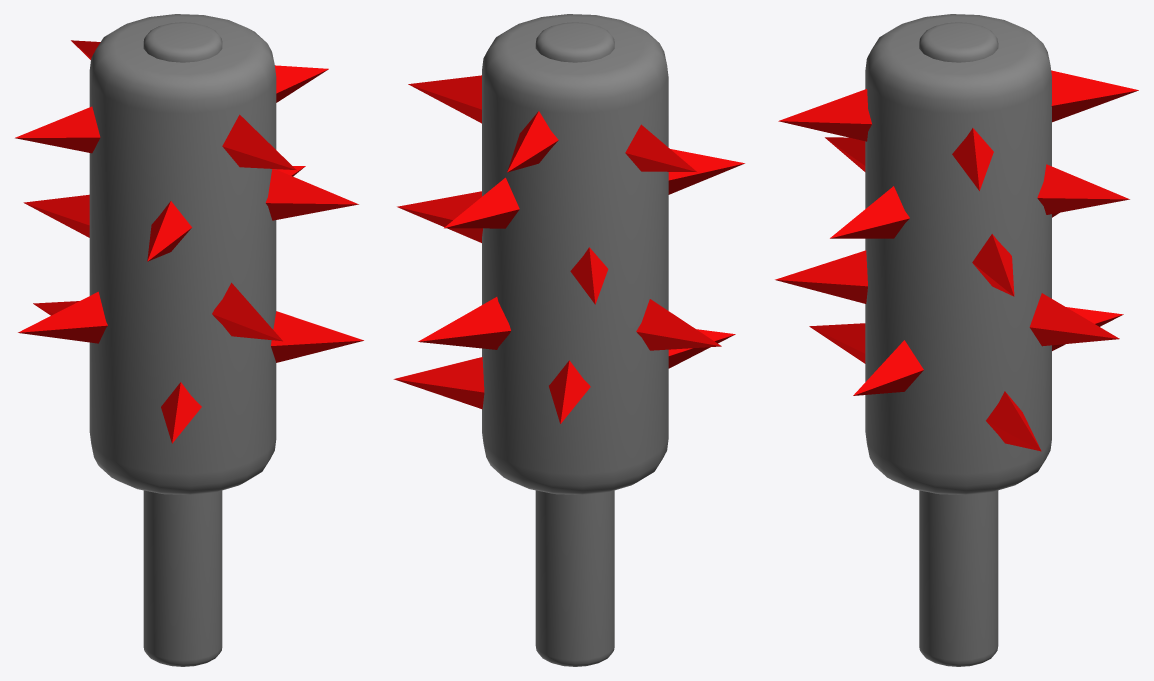
File: Engel.FBX
3 views of the same model, side by side, from view 1: azimuth 30°, elevation 25°; view 2: azimuth 150°, elevation 25°; view 3: azimuth 270°, elevation 25° (orthographic).
Parts seen in each view (by area): view 1: Cylinder, Direk; view 2: Cylinder, Direk; view 3: Cylinder, Direk.
Boxes of the visible parts, x1=… form: Cylinder: x1=15, y1=14, x2=363, y2=494; Direk: x1=143, y1=22, x2=222, y2=666; Cylinder: x1=393, y1=14, x2=744, y2=494; Direk: x1=535, y1=22, x2=614, y2=666; Cylinder: x1=775, y1=14, x2=1138, y2=494; Direk: x1=919, y1=22, x2=998, y2=666.
Bounding box in the file's own units: 36.1 × 68 × 36.44.
